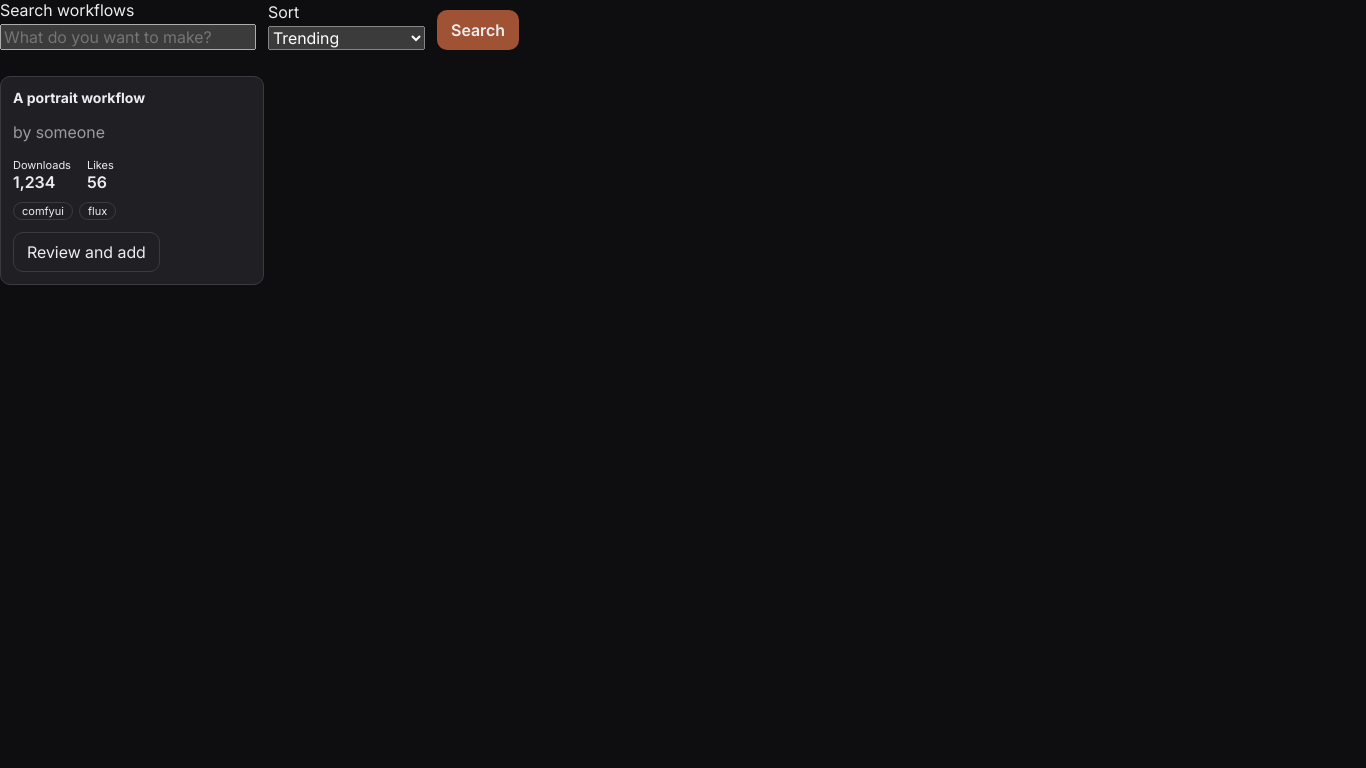
reviews a found workflow the way an imported file is reviewed
Click the button "Review and add": click(86, 252) [13,232,160,272]
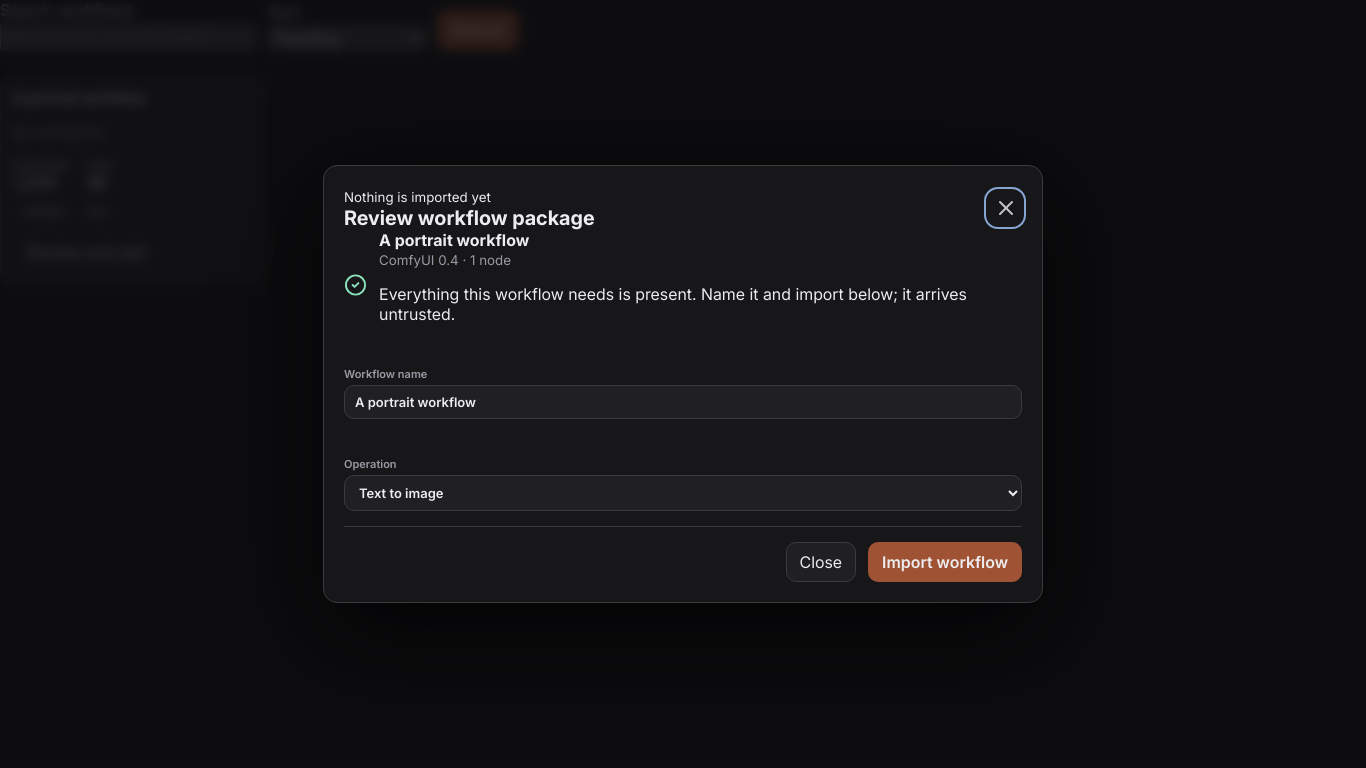
Expected: the field showing "A portrait workflow" is shown, [344,385,1022,419]
